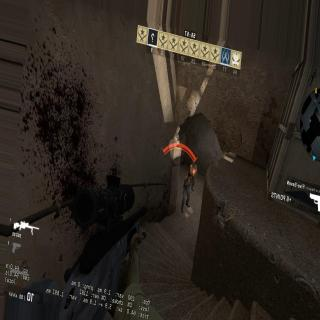T-Body: (181, 172, 191, 212), (189, 160, 197, 191)
T-Head: (192, 159, 196, 167), (188, 172, 190, 179)
